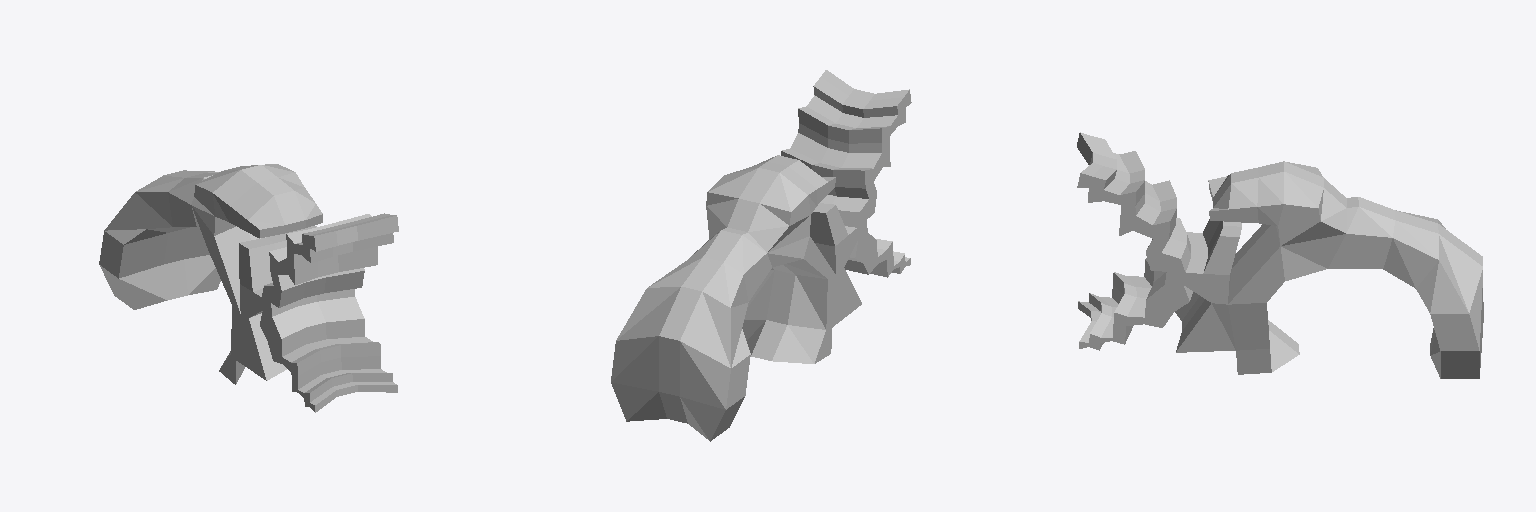
File: hello_000017.obj
3 renders of one model, left to right at view 1: azimuth 30°, elevation 25°; view 2: azimuth 150°, elevation 25°; view 3: azimuth 270°, elevation 25°, orthographic.
Parts seen in each view (by area): view 1: Cube.127_Cube.132; view 2: Cube.127_Cube.132; view 3: Cube.127_Cube.132.
Boxes of the visible parts, x1,y1,x2,y2 form: Cube.127_Cube.132: [99, 164, 398, 412]; Cube.127_Cube.132: [611, 70, 911, 441]; Cube.127_Cube.132: [1077, 132, 1483, 378].
Size of the model in its own units: 2.84 by 4.88 by 8.7.